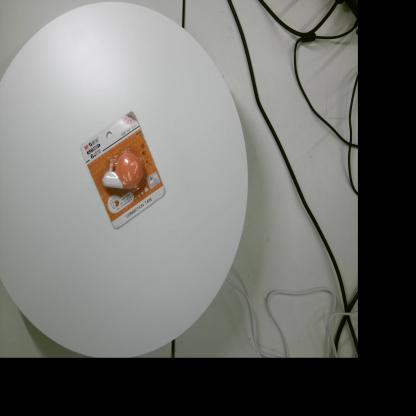Stationery: (80, 111, 166, 230)
